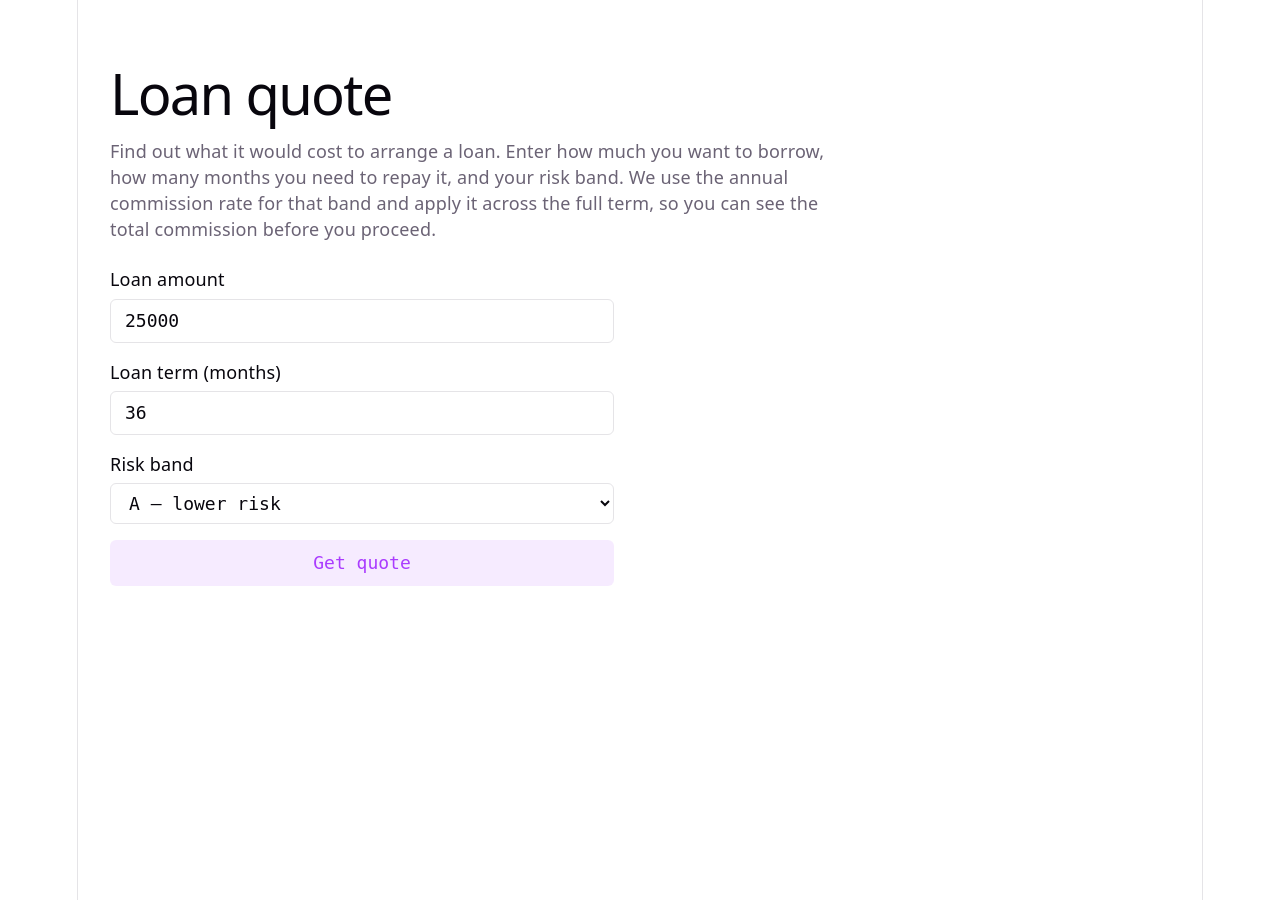
Test: Loan quote form › shows a retry message when the quote request fails like a network issue
What coordinates should you click on to do the following:
click the button "Get quote"
I would click on:
 (362, 563)
Its box is [110,540,614,586].
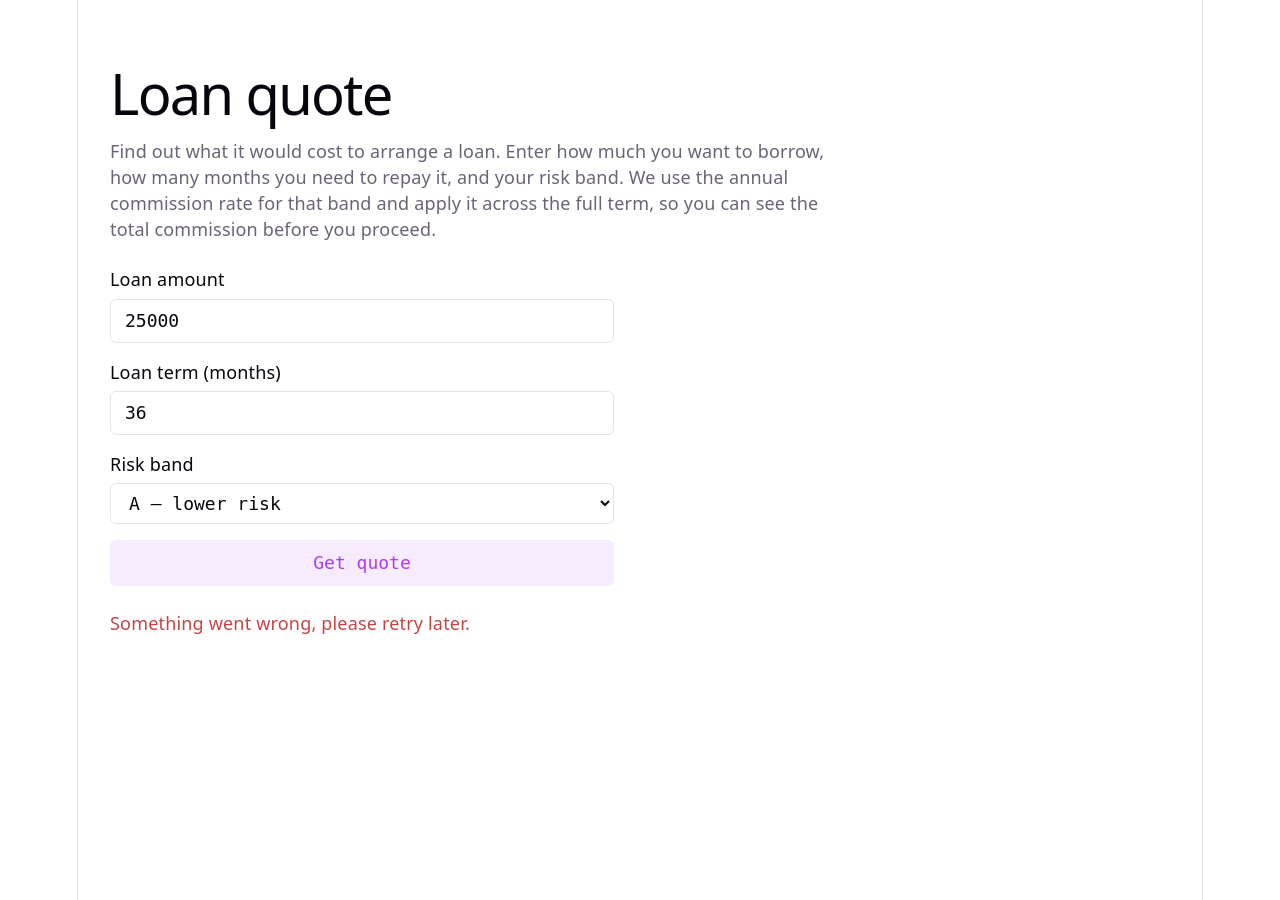
Expected: the message reads "Something went wrong, please retry later.", [110,611,470,635]
